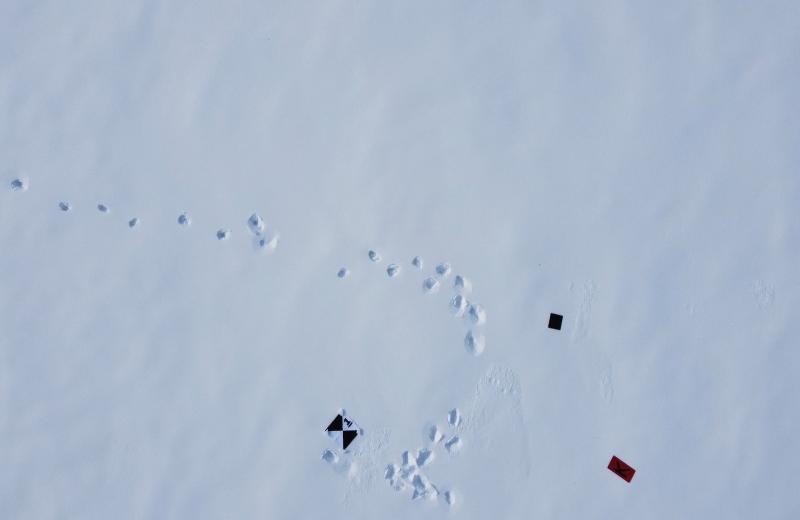Rectangle: (604, 452, 638, 487)
Square: (544, 310, 566, 336)
